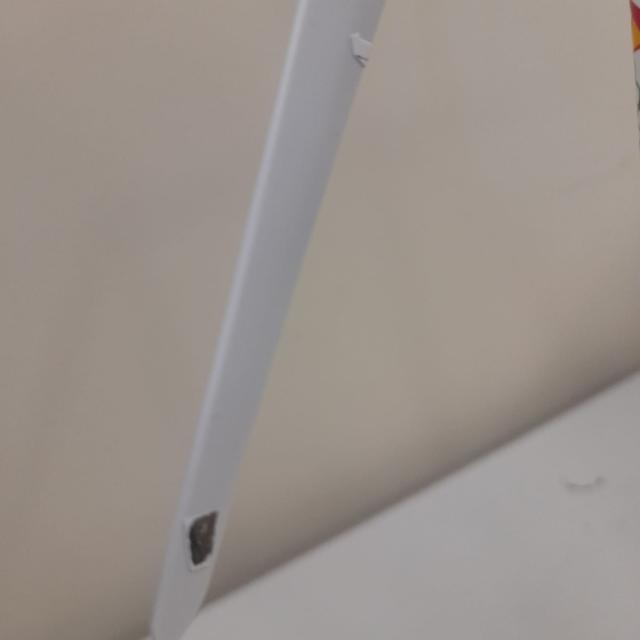dano: (180, 506, 220, 568), (356, 48, 372, 73)
